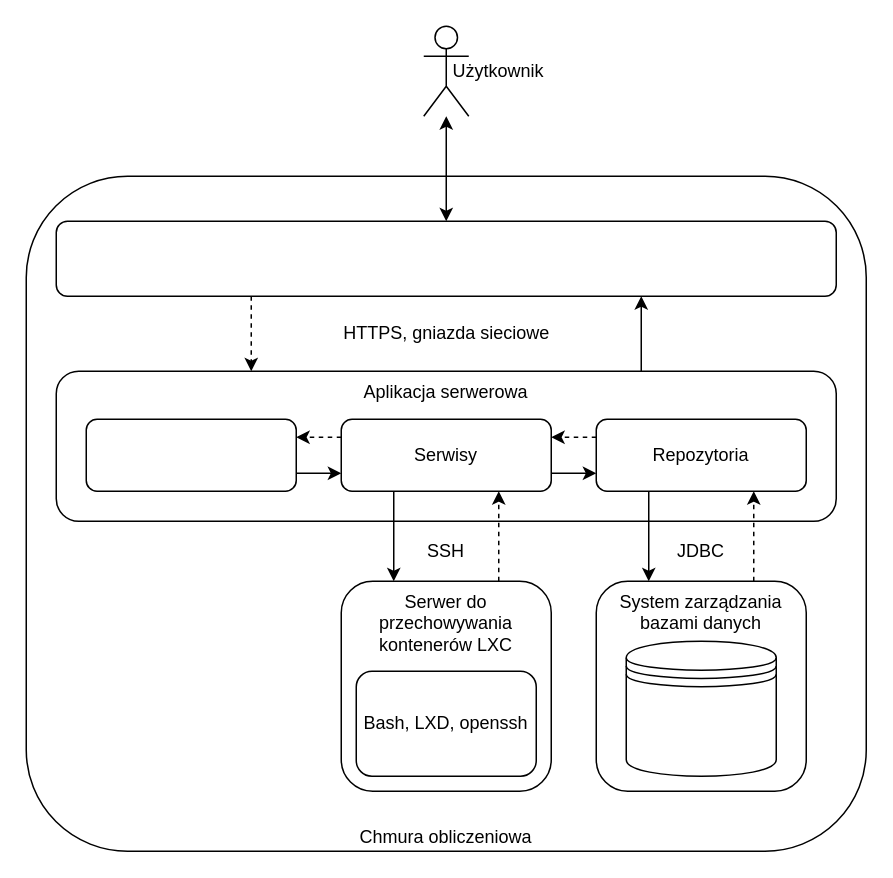
The diagram is 893 pixels wide and 878 high, and some of its shapes have lost their labels. Each missing label, with the centre of its shape:
Aplikacja kliencka: (x=445, y=258)
Kontrolery: (x=190, y=454)
Relacyjna baza danych: (x=700, y=708)
